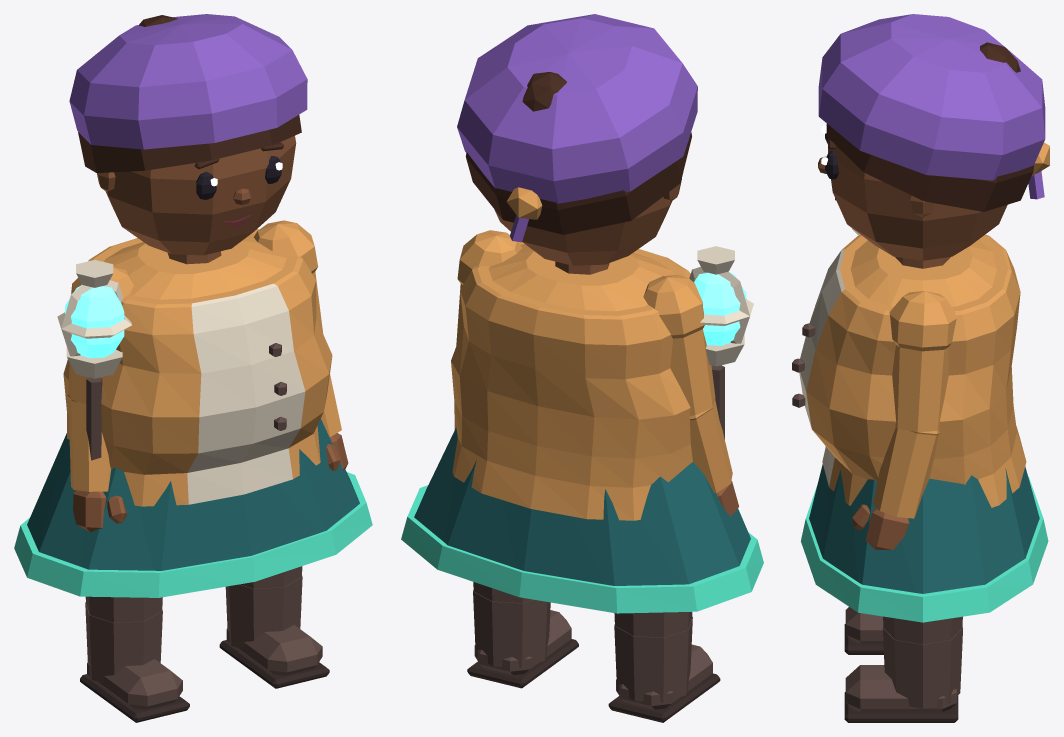
Rendered from spo-n2.glb.
The picture shows the model from 3 angles, left to right: view 1: azimuth 30°, elevation 25°; view 2: azimuth 150°, elevation 25°; view 3: azimuth 270°, elevation 25°; orthographic projection.
Parts seen in each view (by area): view 1: jacke, rock, kopfbedeckung, kopf, schuh_r, schuh_l, gegenstand_lightcap, torso, haare, arm_r, arm_l, bein_r (+4 smaller); view 2: jacke, rock, kopfbedeckung, arm_r, schuh_r, schuh_l, torso, haare, gegenstand_lightcap, kopf, arm_l, bein_r; view 3: jacke, kopfbedeckung, rock, arm_l, kopf, schuh_l, torso, haare, schuh_r, bein_l, hand_l, gesicht (+1 smaller).
Boxes of the visible parts, bbox=[...] form: jacke: bbox=[63, 229, 332, 506]; rock: bbox=[14, 418, 372, 597]; kopfbedeckung: bbox=[69, 14, 307, 149]; kopf: bbox=[97, 135, 296, 255]; schuh_r: bbox=[80, 602, 189, 722]; schuh_l: bbox=[219, 576, 329, 688]; gegenstand_lightcap: bbox=[57, 260, 131, 460]; torso: bbox=[104, 233, 286, 299]; haare: bbox=[78, 15, 301, 172]; arm_r: bbox=[68, 266, 133, 491]; arm_l: bbox=[253, 220, 341, 437]; bein_r: bbox=[85, 596, 162, 622]; jacke: bbox=[451, 242, 692, 520]; rock: bbox=[401, 427, 763, 613]; kopfbedeckung: bbox=[457, 14, 697, 242]; arm_r: bbox=[643, 275, 732, 493]; schuh_r: bbox=[608, 617, 720, 722]; schuh_l: bbox=[467, 590, 578, 688]; torso: bbox=[488, 244, 673, 311]; haare: bbox=[465, 72, 691, 234]; gegenstand_lightcap: bbox=[689, 246, 753, 439]; kopf: bbox=[494, 178, 681, 265]; arm_l: bbox=[456, 230, 522, 345]; bein_r: bbox=[614, 612, 692, 637]; jacke: bbox=[799, 234, 1026, 507]; kopfbedeckung: bbox=[818, 14, 1049, 199]; rock: bbox=[801, 464, 1048, 622]; arm_l: bbox=[873, 291, 956, 518]; kopf: bbox=[828, 146, 1007, 260]; schuh_l: bbox=[844, 627, 962, 722]; torso: bbox=[850, 239, 996, 306]; haare: bbox=[826, 42, 1033, 211]; schuh_r: bbox=[844, 607, 883, 654]; bein_l: bbox=[883, 616, 962, 644]; hand_l: bbox=[852, 504, 909, 549]; gesicht: bbox=[818, 125, 838, 200].
Bounding box in the file's own units: 0.0126 × 0.0233 × 0.00845.
